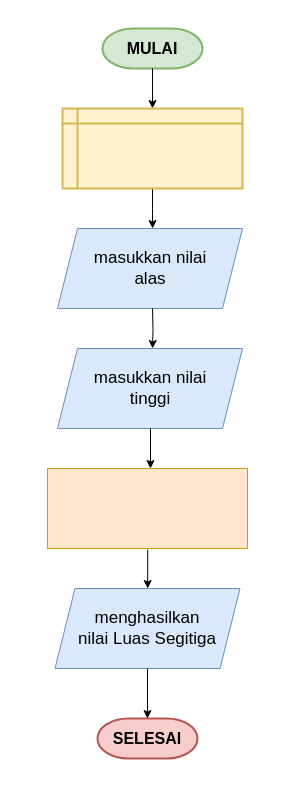
Some shapes in this 299 by 786 pixel diagram are drawn without their labels. Each missing label, with the centre of its shape:
float Luas, alas, tinggi: (x=152, y=148)
Hitung Luas Segitiga Luas = (alas * tinggi) / 2: (x=147, y=508)
